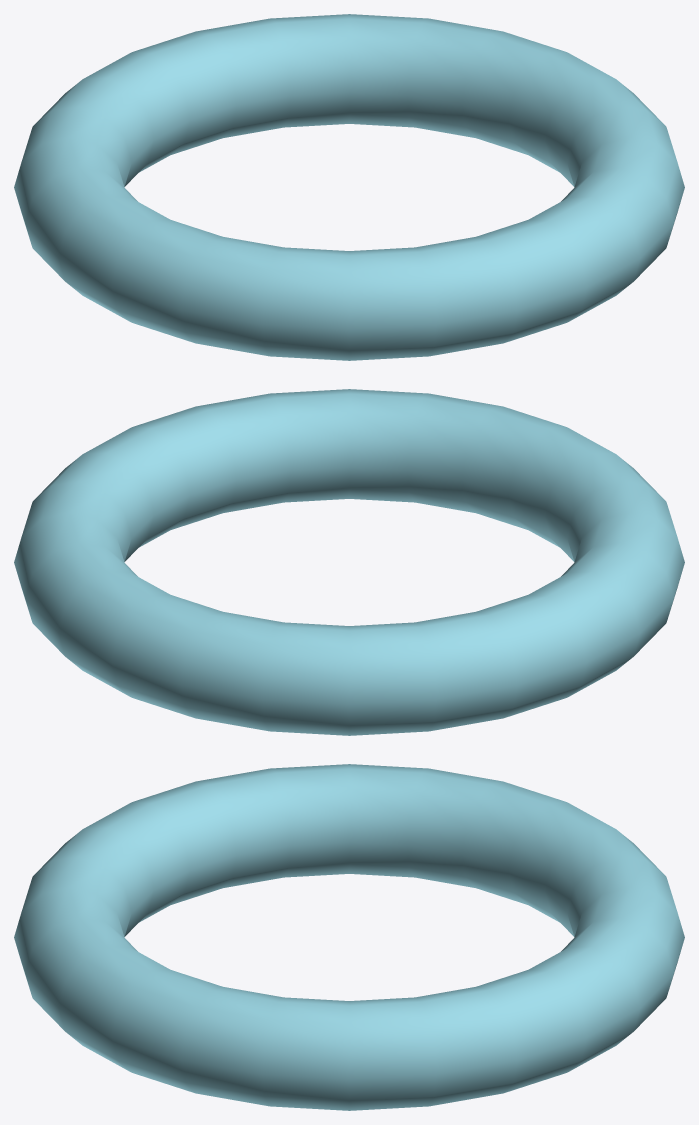
3 renders of one model, top to bottom at view 1: azimuth 30°, elevation 25°; view 2: azimuth 150°, elevation 25°; view 3: azimuth 270°, elevation 25°, orthographic.
Parts seen in each view (by area): view 1: Torus01; view 2: Torus01; view 3: Torus01.
Boxes of the visible parts, bbox=[...] form: Torus01: bbox=[14, 14, 684, 360]; Torus01: bbox=[14, 389, 684, 735]; Torus01: bbox=[14, 764, 684, 1110].
Bounding box in the file's own units: 132 × 132 × 21.76.
